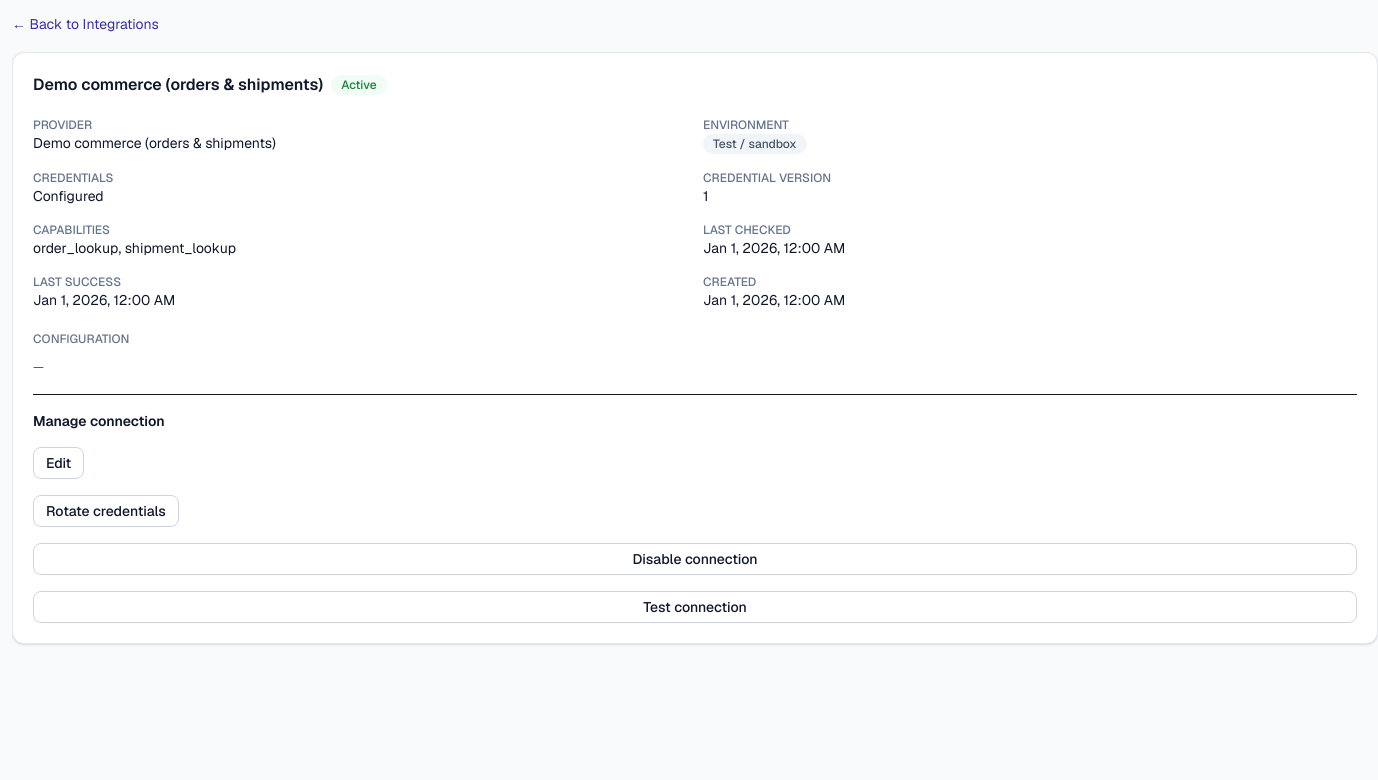
Test case: ManageConnectionControls (Phase 22 Chunk 3) › runs a test connection and shows the real result
This screenshot has width=1378, height=780.
Check: the heading "Demo commerce (orders & shipments)" is shown, box x1=33 y1=73 x2=323 y2=97
Click the button "Test connection": (695, 607) x1=33 y1=591 x2=1357 y2=623
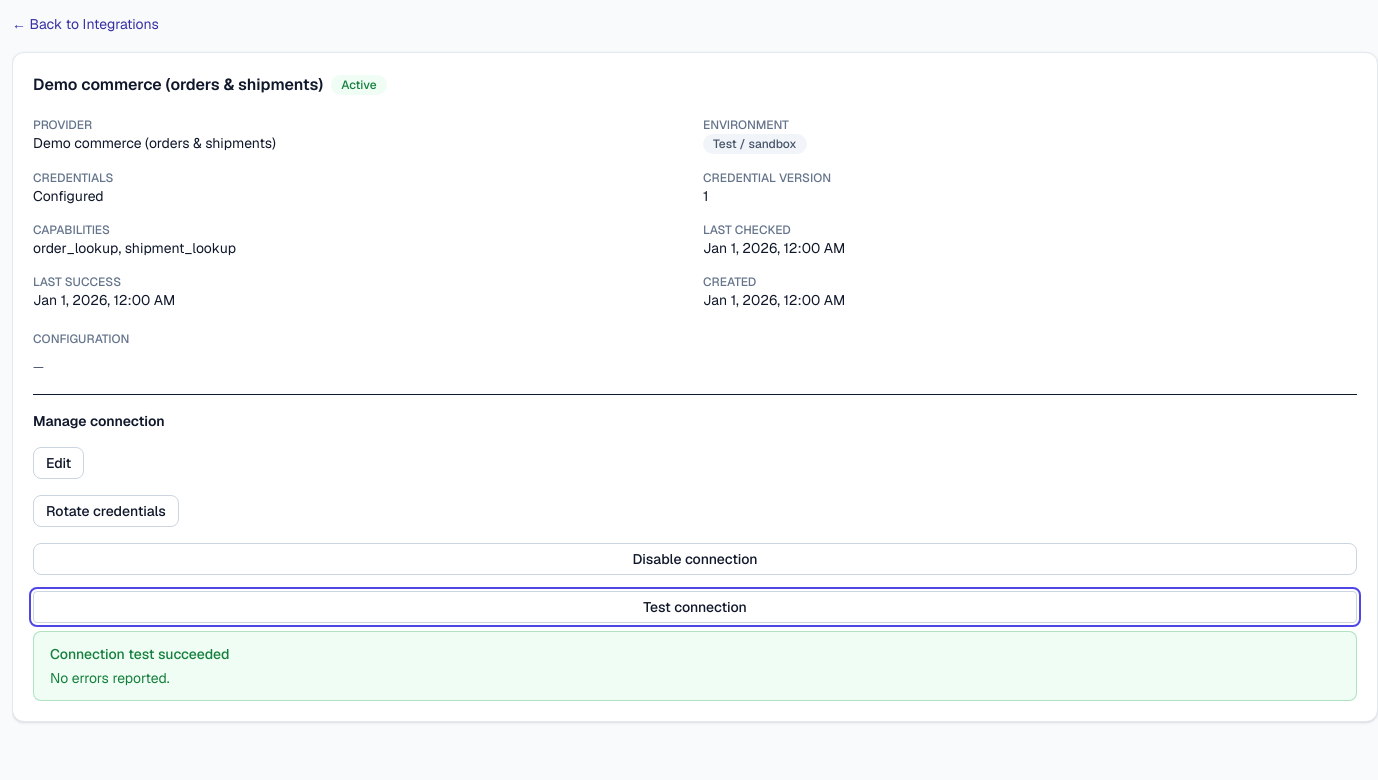
Check: the text "Connection test succeeded" is shown, box x1=50 y1=645 x2=230 y2=663
